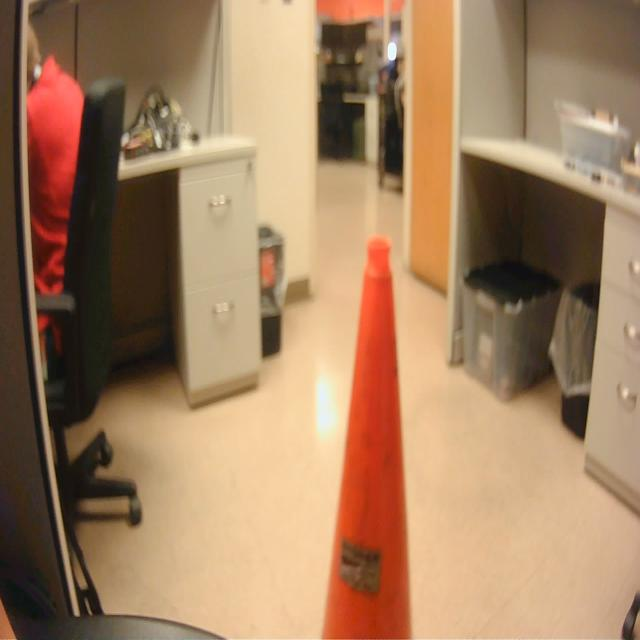traffic cone: (313, 227, 421, 640)
